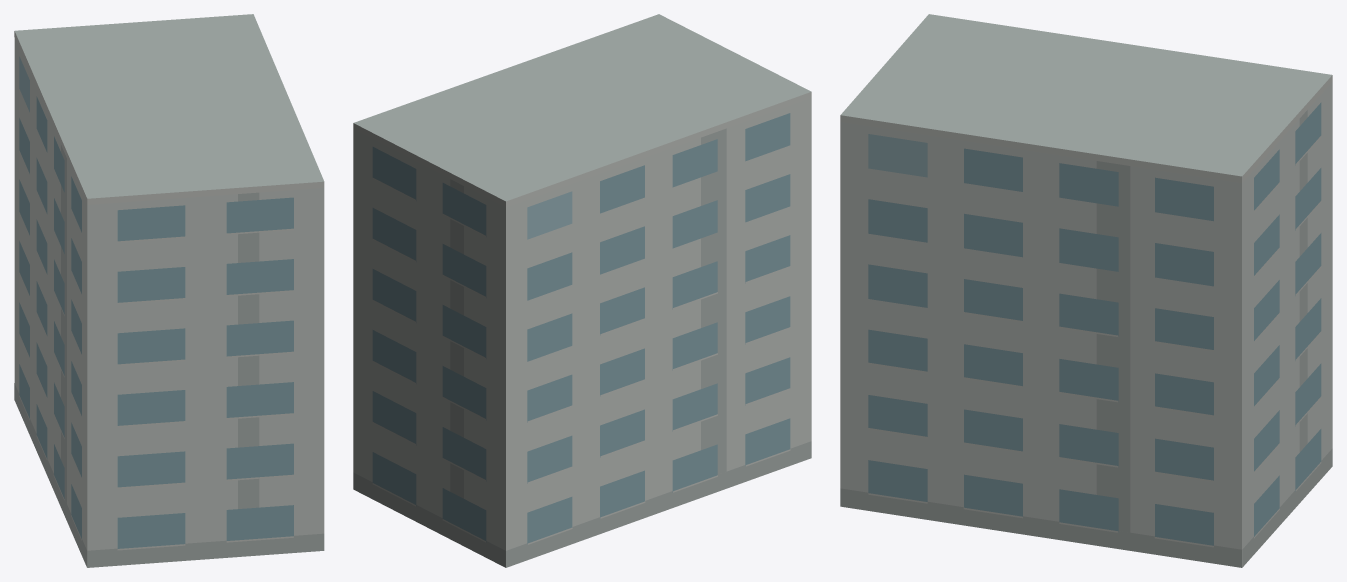
File: survey-upis-32888339.glb
3 renders of one model, left to right at view 1: azimuth 30°, elevation 25°; view 2: azimuth 150°, elevation 25°; view 3: azimuth 270°, elevation 25°, orthographic. The views are drawn at different scales.
Visible parts, largest first — view 1: survey-upis-32888339.tmp; view 2: survey-upis-32888339.tmp; view 3: survey-upis-32888339.tmp.
Boxes of the visible parts, bbox=[...] form: survey-upis-32888339.tmp: bbox=[14, 14, 324, 567]; survey-upis-32888339.tmp: bbox=[353, 14, 811, 567]; survey-upis-32888339.tmp: bbox=[840, 14, 1332, 567].
Bounding box in the file's own units: 12.83 × 14.4 × 16.42.
